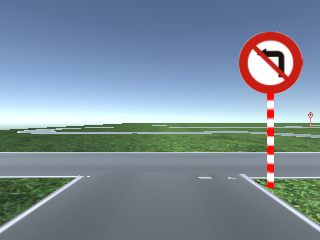0: (1, 197, 320, 239)
NoLeft: (239, 32, 303, 94)
